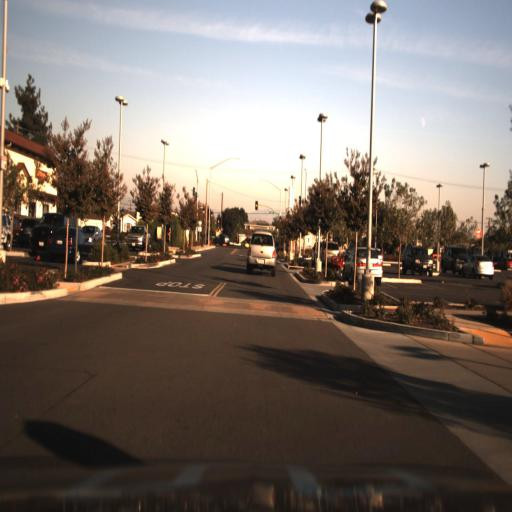car: (244, 230, 284, 280), (42, 221, 84, 267), (341, 244, 383, 288), (462, 242, 495, 281), (402, 242, 434, 278), (29, 208, 53, 254), (79, 216, 107, 252), (121, 221, 152, 253), (15, 211, 37, 253), (439, 244, 466, 276), (313, 238, 338, 265)
trafficLight-Red: (215, 214, 221, 226)
trafficLight-Yellow: (253, 199, 258, 214)
